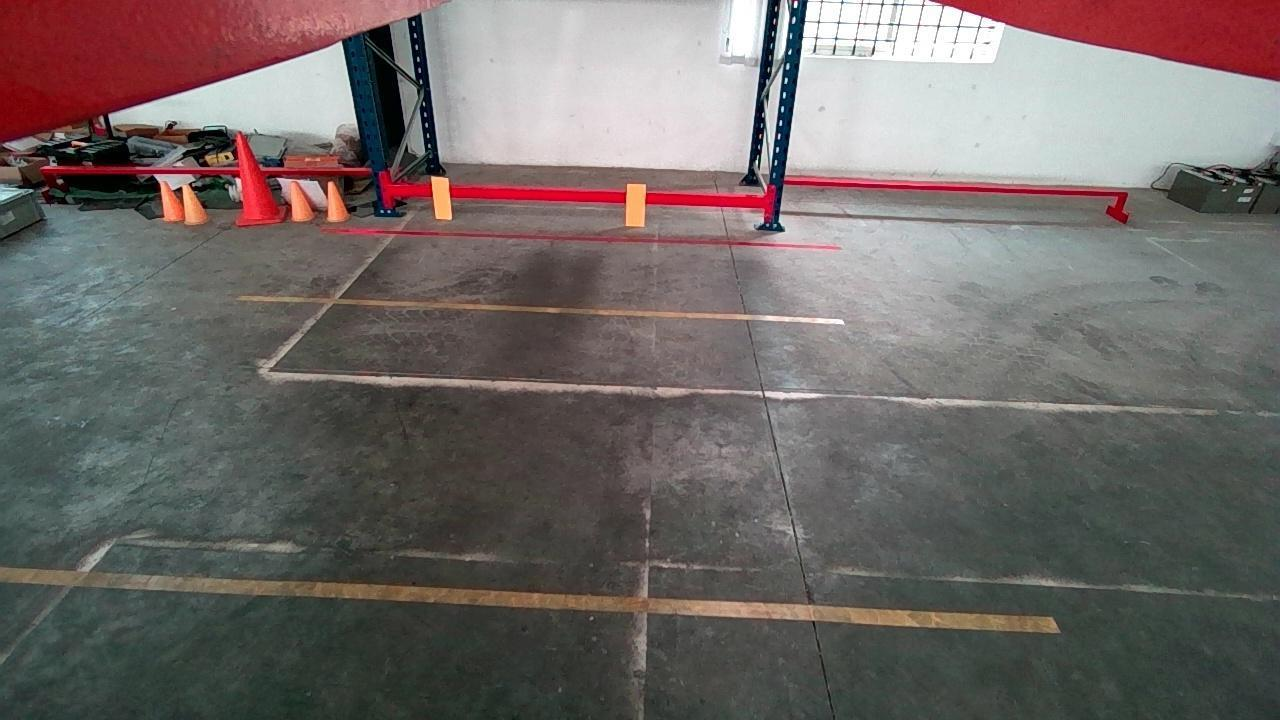h_rack: (390, 185, 769, 207)
orange_strip: (624, 184, 645, 225), (433, 176, 452, 219)
red_line: (324, 226, 842, 250)
yellow_line: (1, 567, 1057, 630), (240, 293, 845, 324)
